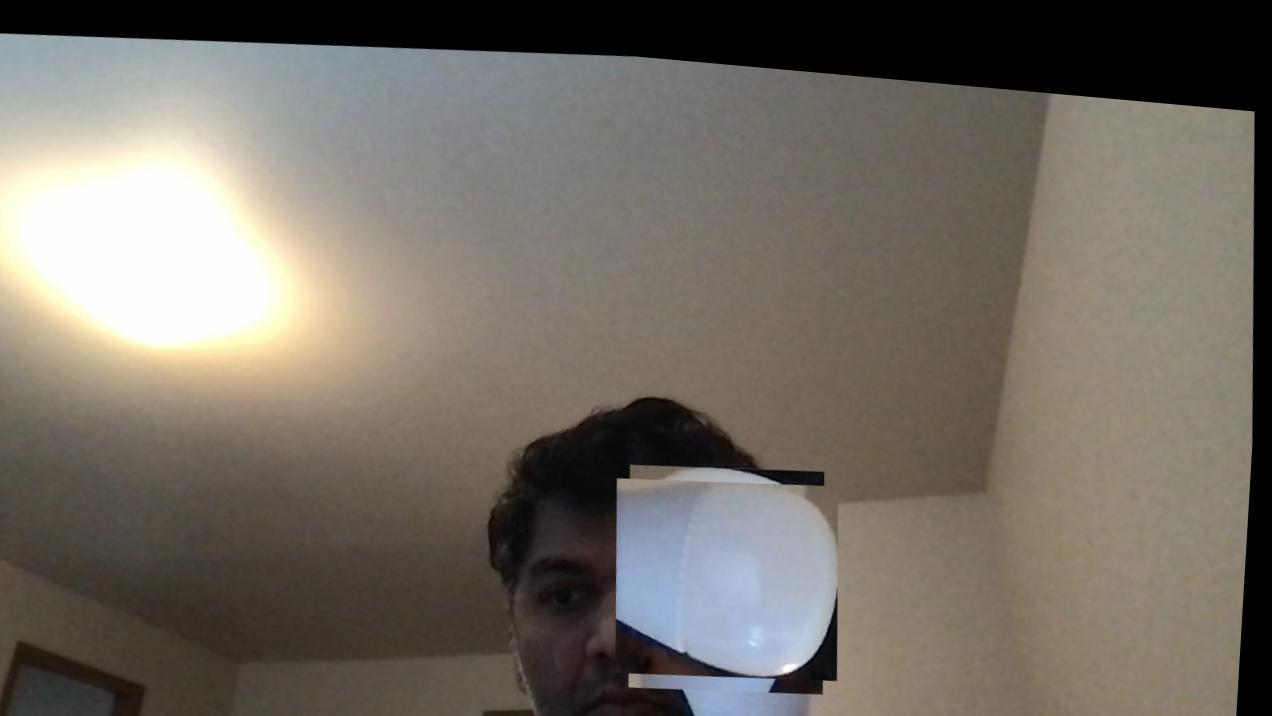Fan: (618, 448, 847, 682)
